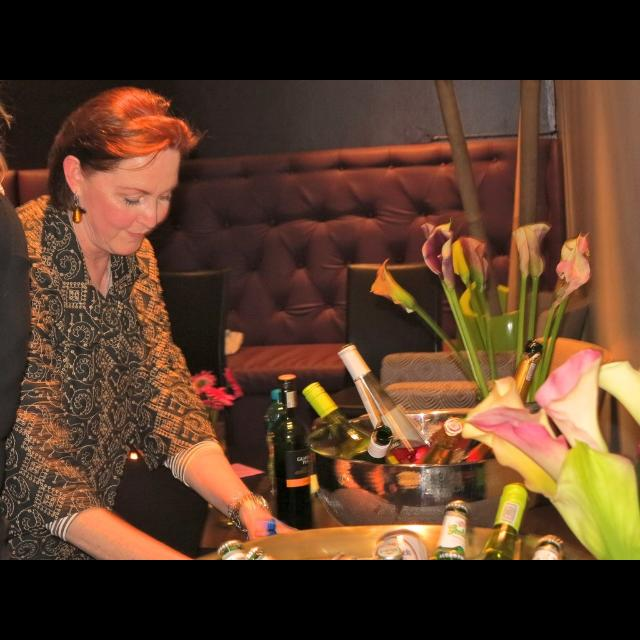Flower: (460, 368, 562, 502), (466, 405, 572, 483), (536, 343, 608, 453), (599, 362, 639, 428), (562, 232, 600, 296), (370, 259, 416, 311), (452, 234, 490, 292), (512, 222, 550, 278), (422, 221, 450, 275)
